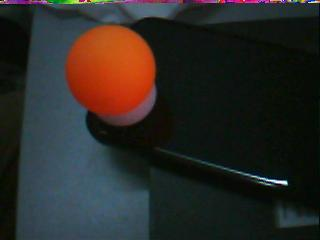oball: (65, 25, 155, 114)
